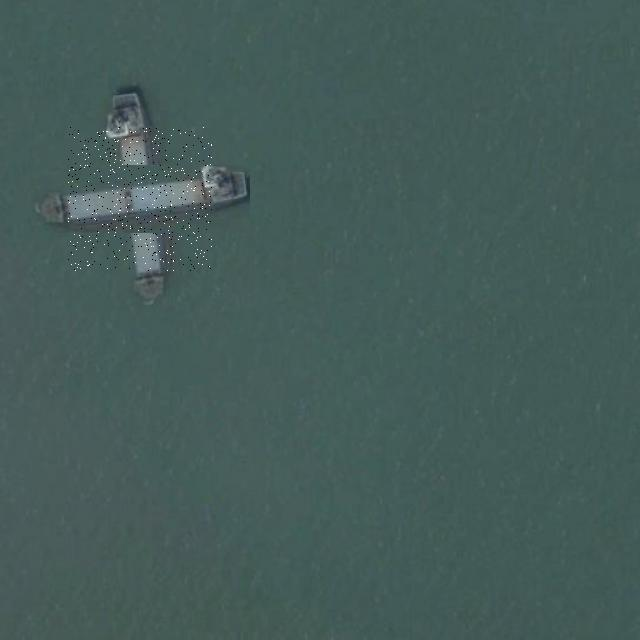boat: (68, 127, 212, 271)
